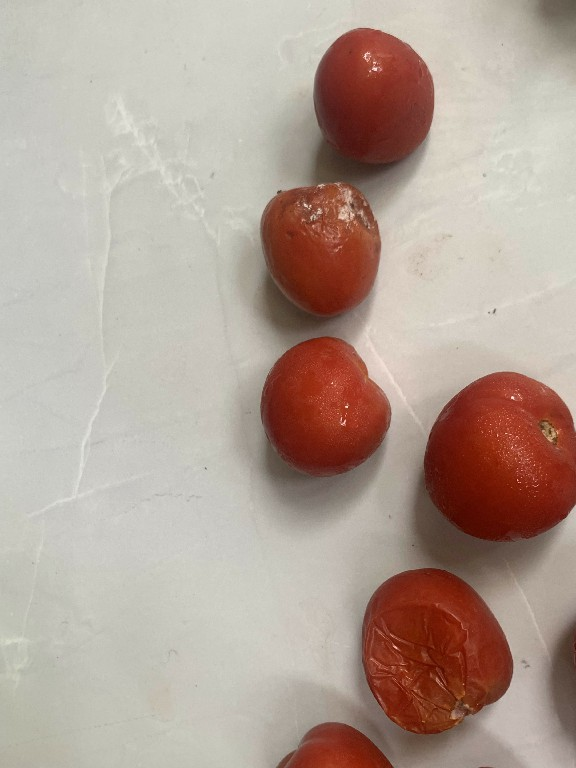NG: (351, 552, 516, 751), (257, 173, 383, 323)
OK: (410, 364, 575, 557), (244, 328, 391, 488), (300, 17, 443, 175)
